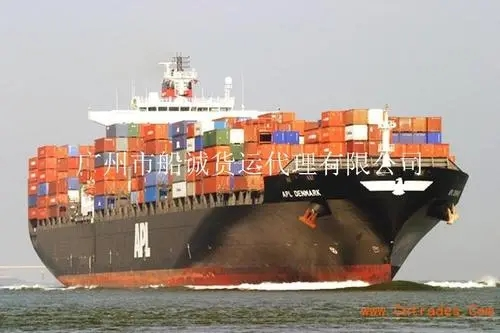Cargoship: (21, 55, 468, 282)
